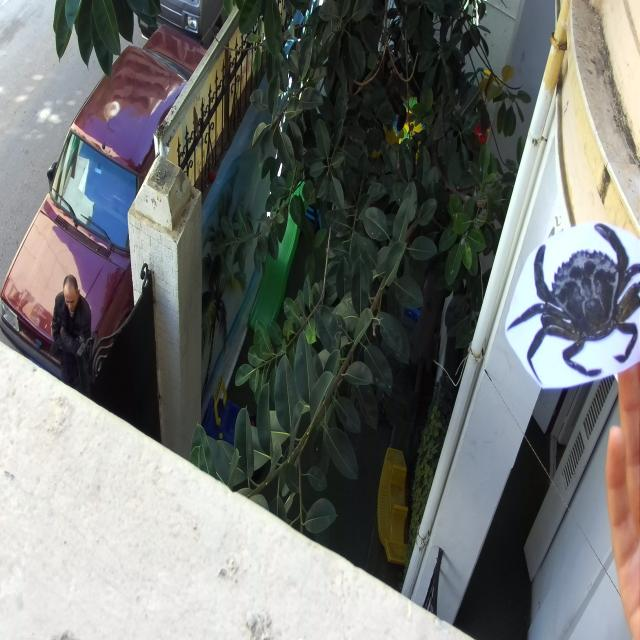European_Green_Crab: (0, 497, 263, 640)
